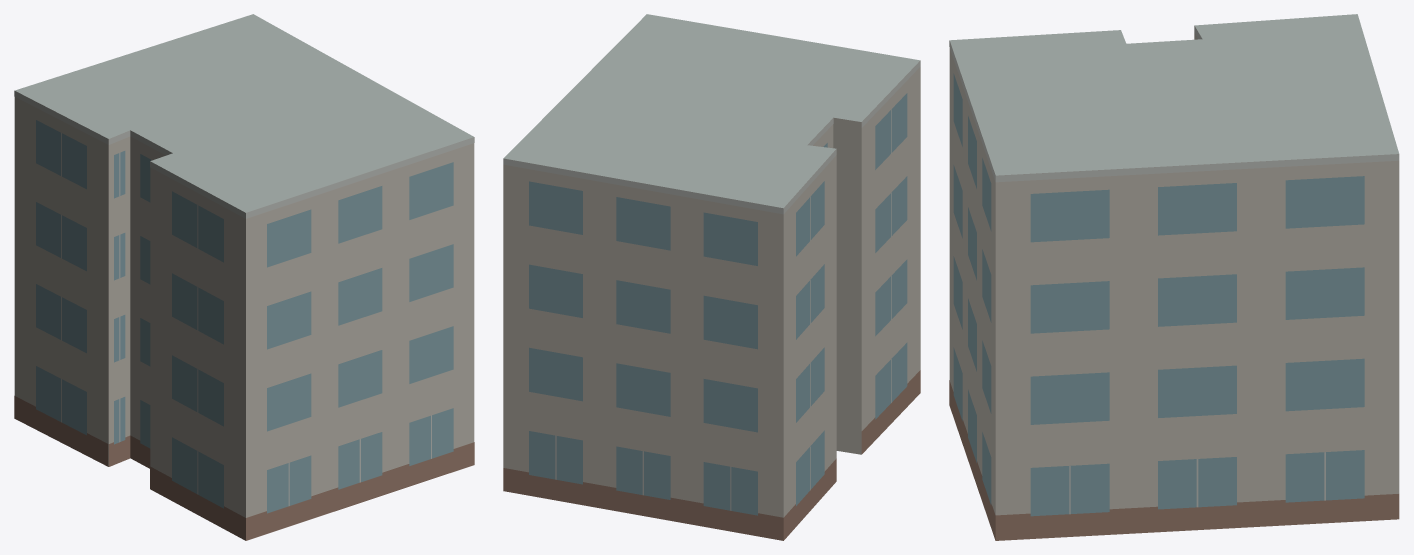
Rendered from survey-upis-32977431.glb.
The picture shows the model from 3 angles, left to right: view 1: azimuth 30°, elevation 25°; view 2: azimuth 150°, elevation 25°; view 3: azimuth 270°, elevation 25°; orthographic projection. The views are drawn at different scales.
Parts seen in each view (by area): view 1: survey-upis-32977431.tmp; view 2: survey-upis-32977431.tmp; view 3: survey-upis-32977431.tmp.
Boxes of the visible parts, left/top/right/bottom form: survey-upis-32977431.tmp: left=14, top=14, right=474, bottom=540; survey-upis-32977431.tmp: left=503, top=14, right=920, bottom=540; survey-upis-32977431.tmp: left=949, top=14, right=1399, bottom=540.
Bounding box in the file's own units: 12.58 × 13.25 × 14.8.
